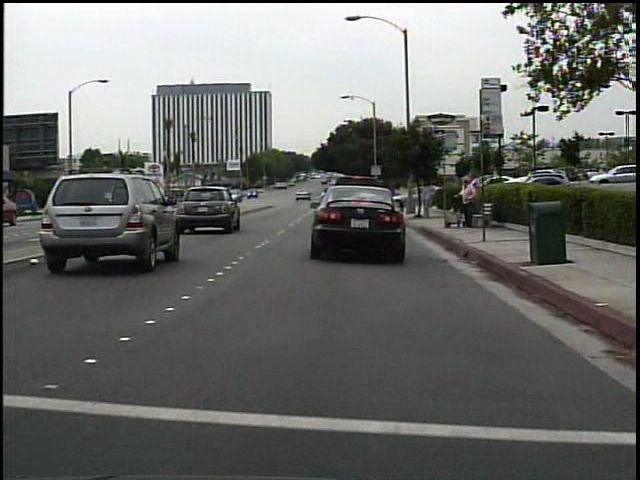person: (453, 172, 481, 228), (417, 175, 440, 221)
